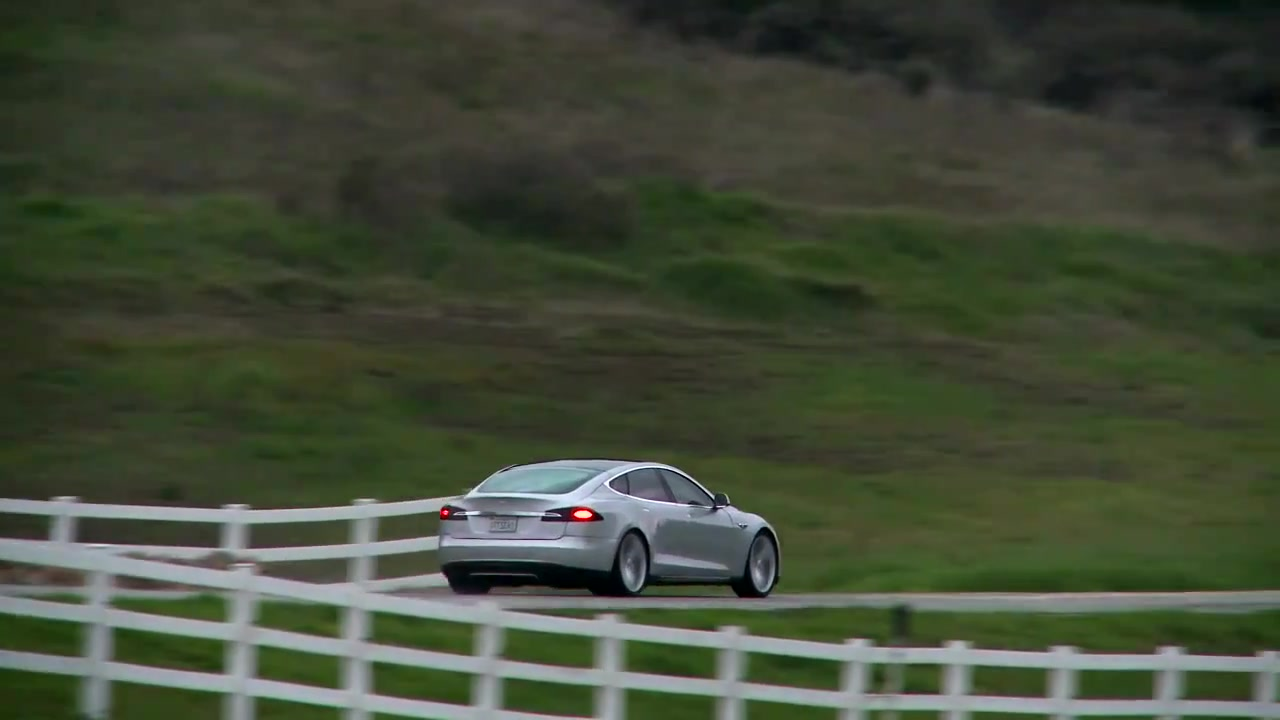car: (433, 456, 785, 603)
